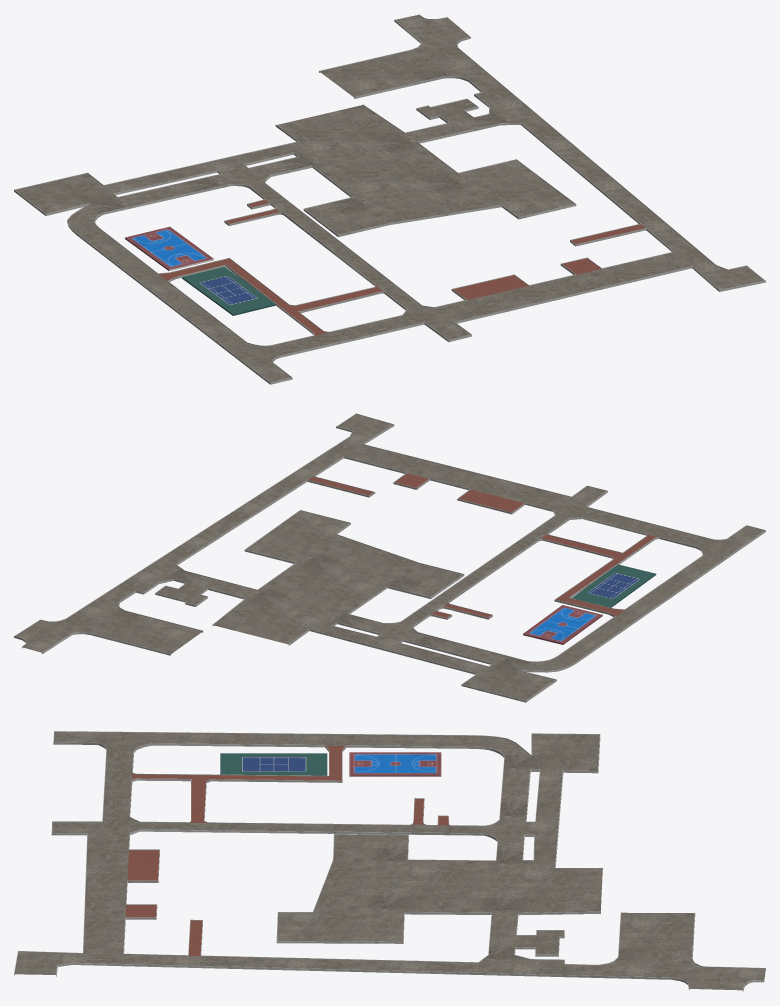
Rendered from road_p10_02.fbx.
3 views of the same model, one above another, from view 1: azimuth 30°, elevation 25°; view 2: azimuth 150°, elevation 25°; view 3: azimuth 270°, elevation 25° (orthographic). The views are drawn at different scales.
Parts seen in each view (by area): view 1: road_p10_02; view 2: road_p10_02; view 3: road_p10_02.
Boxes of the visible parts, left/top/right/bottom form: road_p10_02: left=14, top=14, right=765, bottom=384; road_p10_02: left=14, top=413, right=765, bottom=702; road_p10_02: left=14, top=731, right=765, bottom=991.
Size of the model in its own units: 18697 by 70.01 by 22981.
